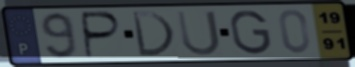0: (276, 8, 312, 55)
9: (38, 10, 81, 61)
D: (129, 10, 178, 58)
G: (228, 9, 274, 56)
P: (81, 10, 125, 60)
U: (174, 9, 224, 57)
